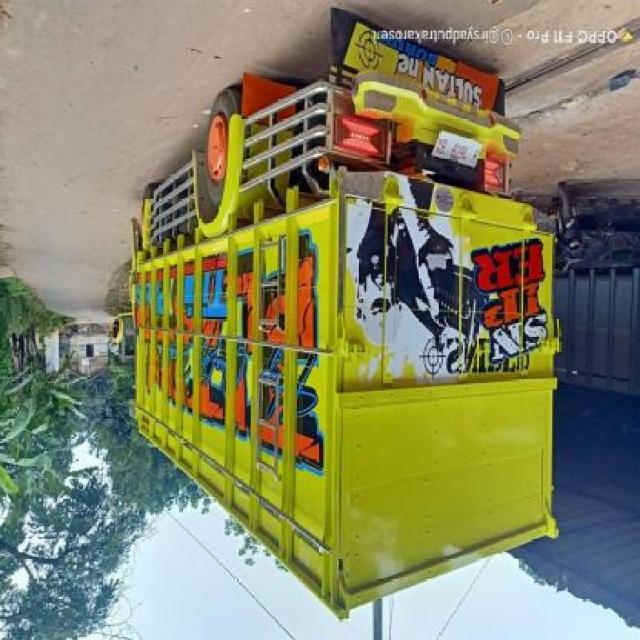truck: (115, 9, 566, 625)
